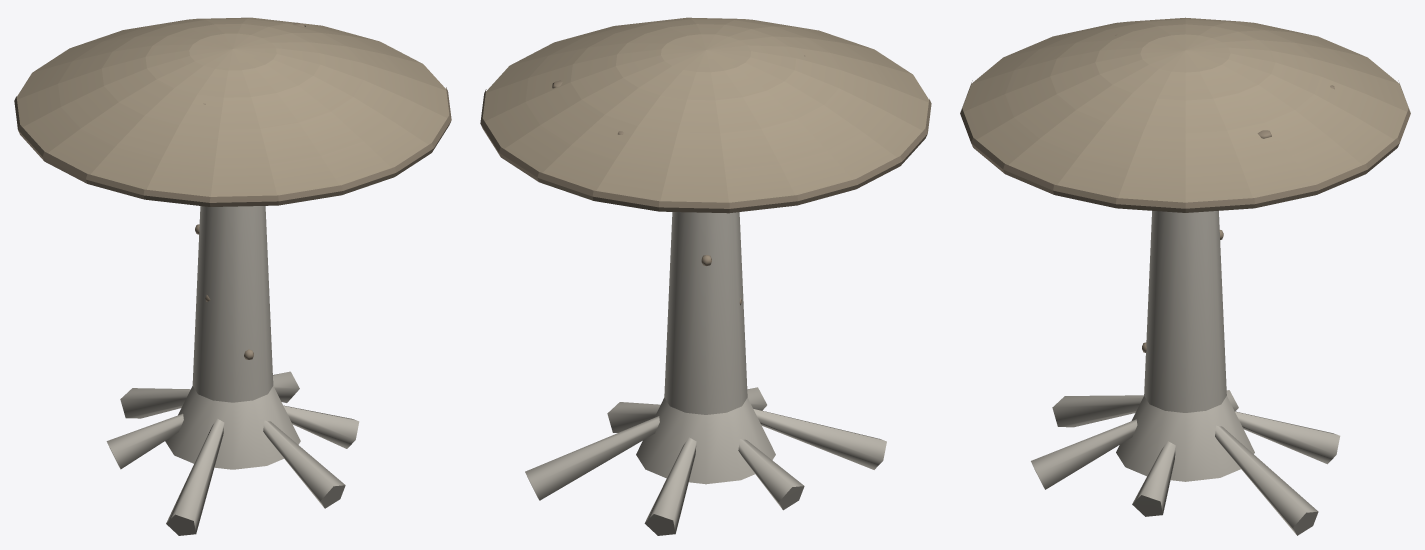
File: mushroom-giant.glb
3 renders of one model, left to right at view 1: azimuth 30°, elevation 25°; view 2: azimuth 150°, elevation 25°; view 3: azimuth 270°, elevation 25°, orthographic. The views are drawn at different scales.
Visible parts, largest first — view 1: mushroom-giant; view 2: mushroom-giant; view 3: mushroom-giant.
Boxes of the visible parts, x1,y1,x2,y2 form: mushroom-giant: [14, 17, 451, 535]; mushroom-giant: [480, 17, 931, 535]; mushroom-giant: [960, 17, 1410, 535].
Size of the model in its own units: 6.8 by 7.18 by 6.8.
